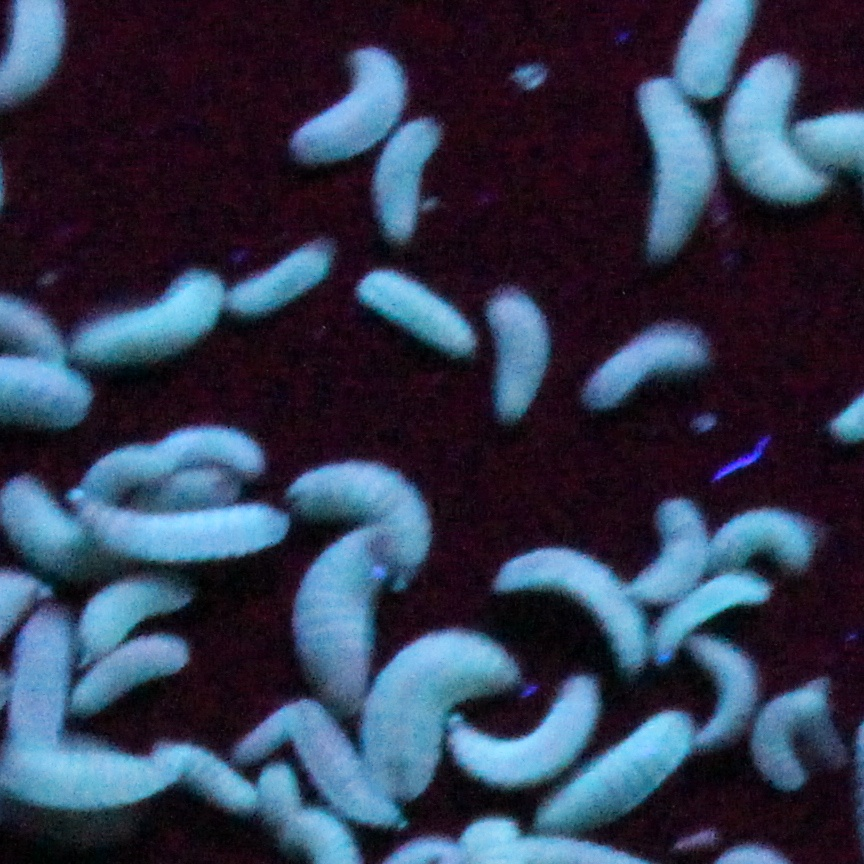larve: (613, 77, 718, 266), (81, 259, 223, 374), (497, 539, 623, 662), (582, 313, 710, 423), (363, 243, 469, 366), (756, 666, 846, 810), (470, 286, 555, 430), (450, 693, 586, 783), (308, 531, 377, 696), (83, 502, 286, 557), (374, 636, 442, 795), (285, 40, 382, 146), (709, 493, 828, 575), (681, 634, 754, 762), (603, 710, 683, 826), (12, 617, 79, 750), (3, 755, 165, 808), (228, 232, 330, 316), (629, 490, 708, 592), (729, 85, 798, 195), (306, 455, 412, 523), (81, 652, 188, 711), (385, 130, 442, 230), (176, 743, 251, 818), (19, 480, 74, 580), (296, 704, 358, 785), (86, 574, 161, 634), (161, 435, 269, 472), (83, 448, 162, 486), (702, 579, 768, 616)
